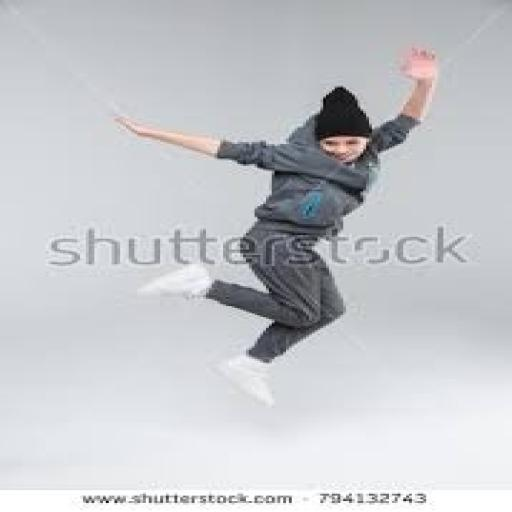dancing: (108, 46, 440, 408)
